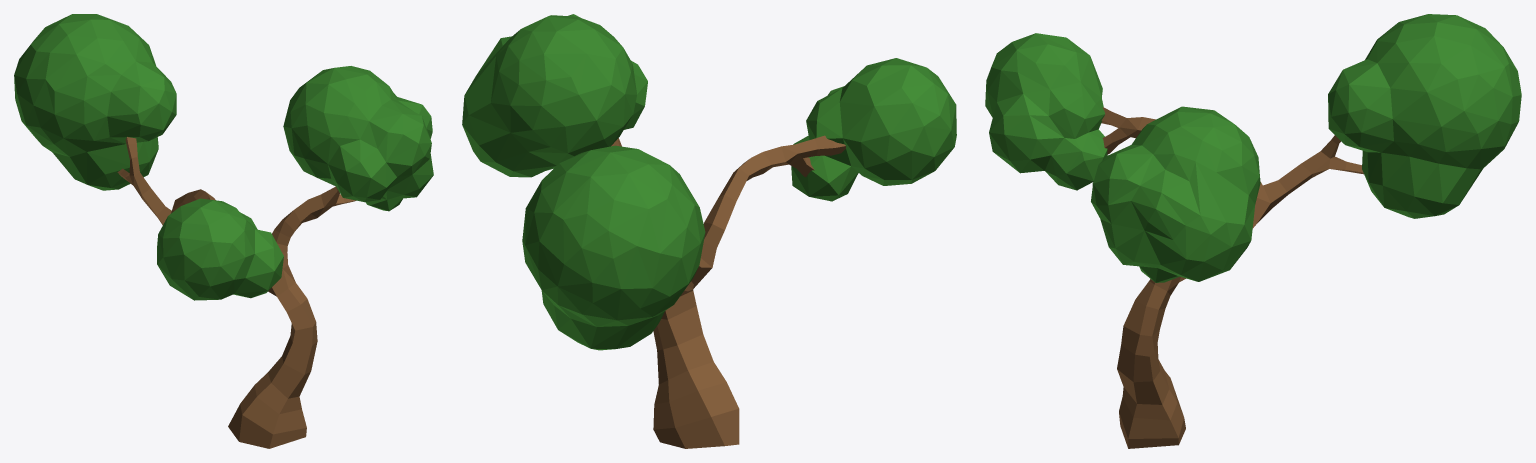
File: Tree5.fbx
3 views of the same model, side by side, from view 1: azimuth 30°, elevation 25°; view 2: azimuth 150°, elevation 25°; view 3: azimuth 270°, elevation 25° (orthographic). The views are drawn at different scales.
Visible parts, largest first — view 1: LowPoly Tree 03; view 2: LowPoly Tree 03; view 3: LowPoly Tree 03.
Boxes of the visible parts, bbox=[...] form: LowPoly Tree 03: bbox=[14, 14, 433, 448]; LowPoly Tree 03: bbox=[462, 14, 956, 448]; LowPoly Tree 03: bbox=[985, 14, 1521, 448].
Size of the model in its own units: 4.16 by 3.28 by 3.28.
